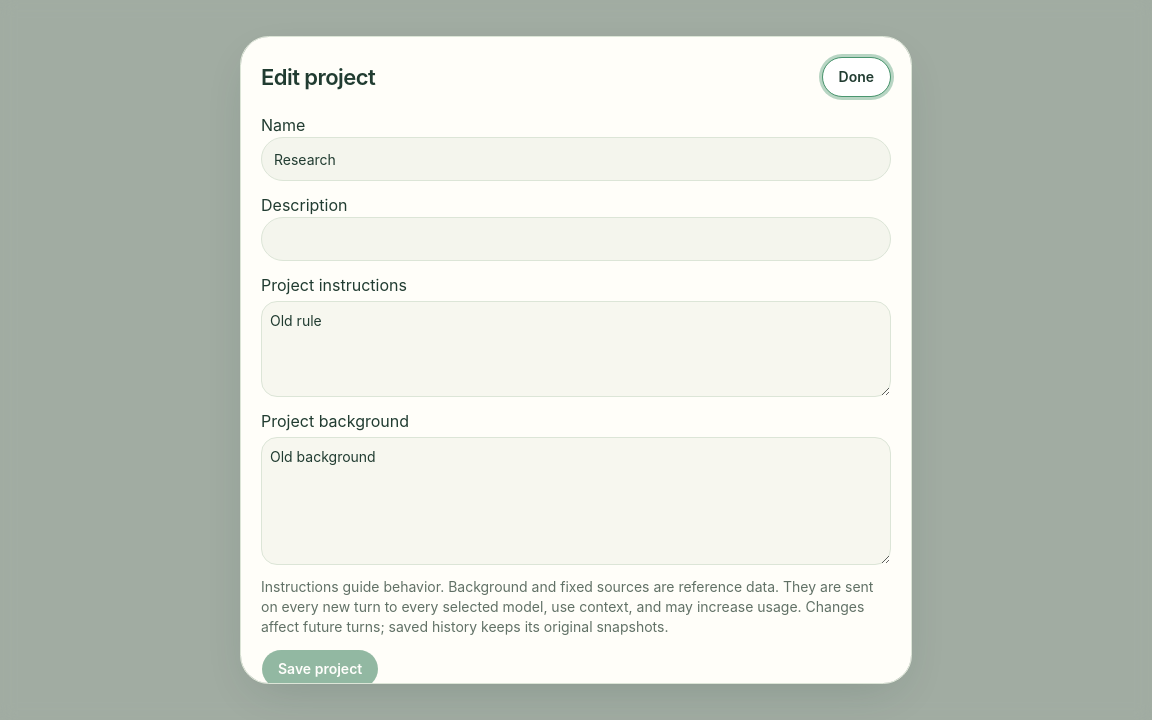
Test: a rejected project edit retains the edited background and chat draft
Later steps or results of the test are not shown.
Replace the text in the text box labelled "Project background" with "My edited project background": (576, 501) left=261, top=437, right=891, bottom=565
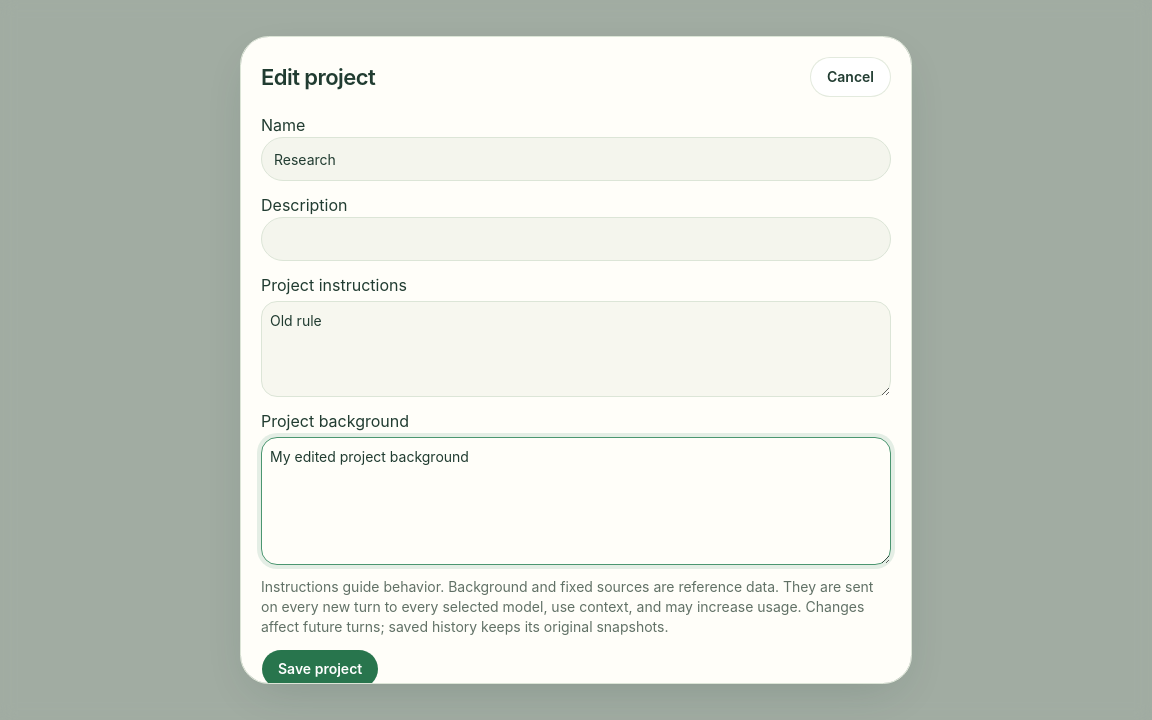
Click the button "Save project": (320, 669) left=261, top=649, right=379, bottom=689
(page scrolled)
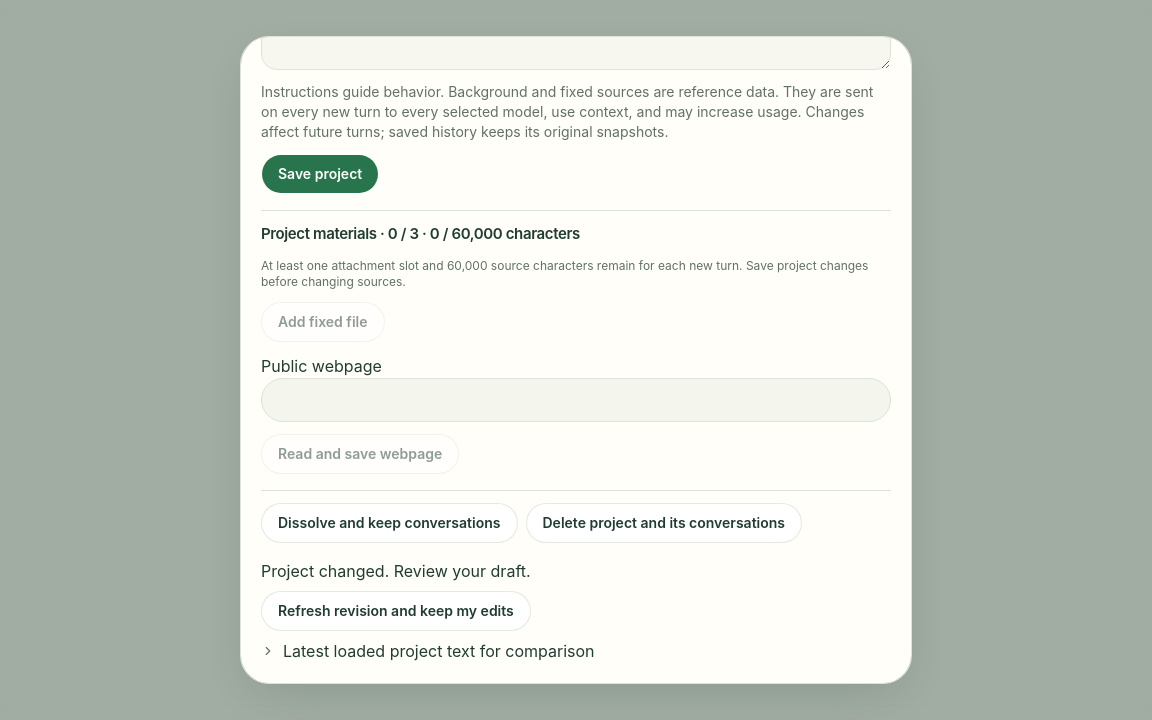
Expected: the message shows "Project changed", left=261, top=560, right=531, bottom=580
